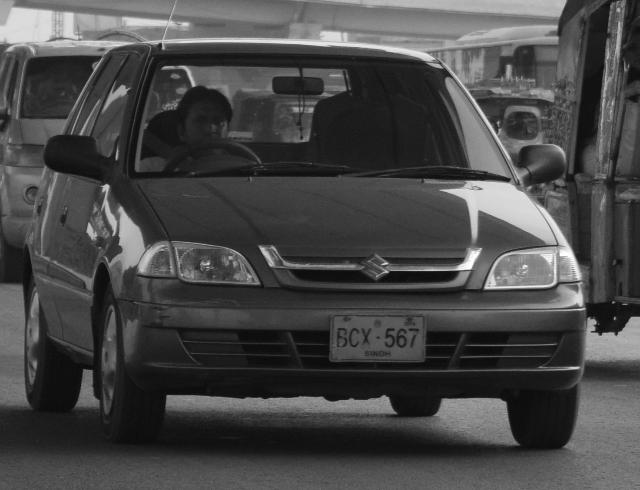Number: (338, 324, 422, 352)
